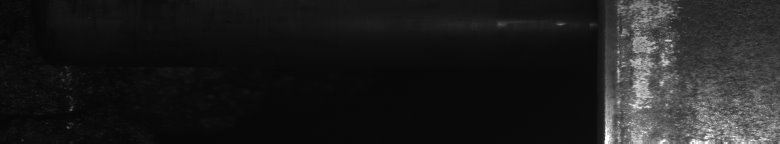kb: (616, 4, 768, 136)
